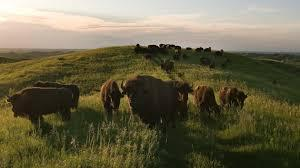cow: (120, 74, 177, 128), (7, 87, 73, 130), (30, 81, 80, 111), (100, 78, 124, 121), (170, 80, 194, 120), (217, 85, 250, 111), (193, 84, 218, 117)
